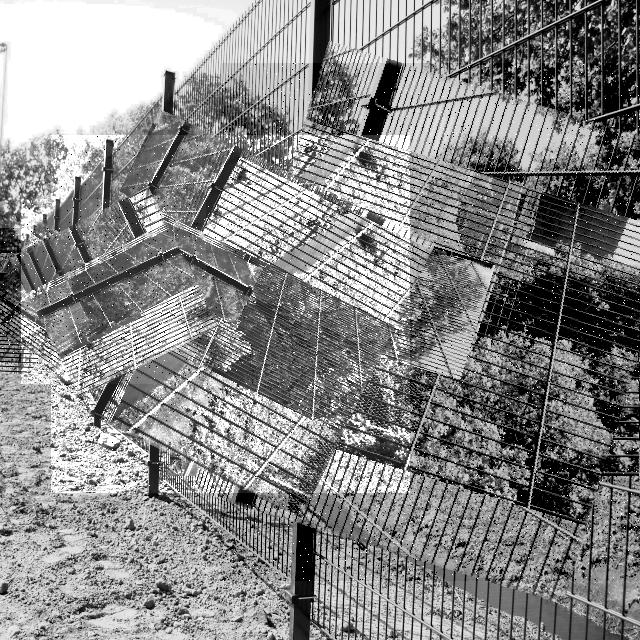fences: (221, 63, 640, 581), (51, 135, 410, 493), (21, 199, 206, 384), (0, 228, 109, 362)
